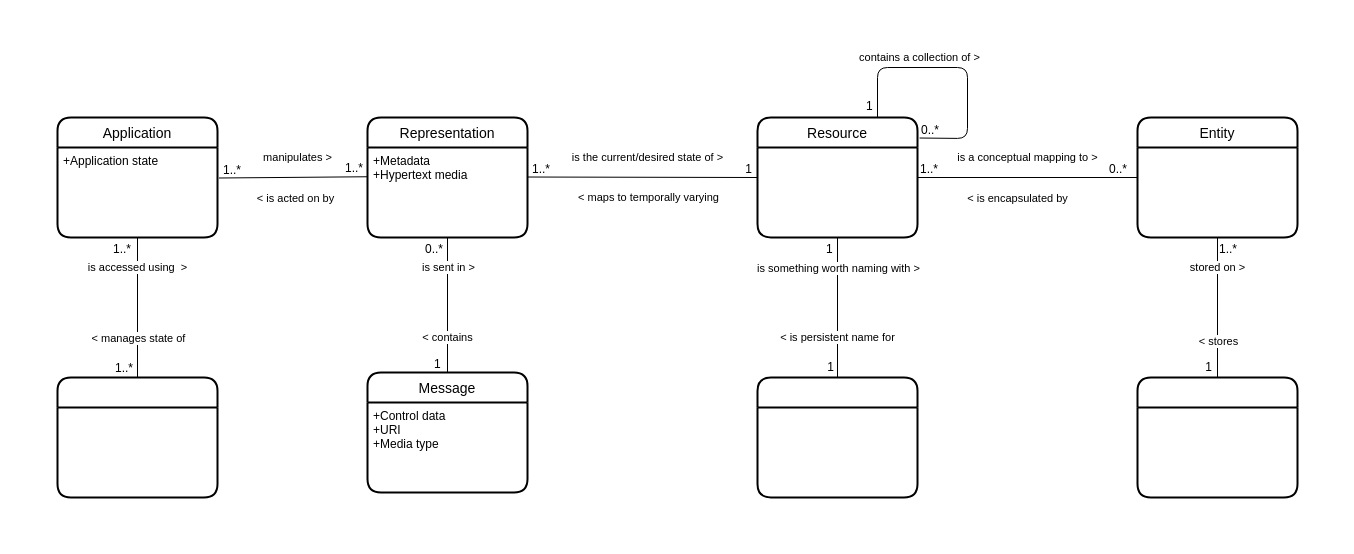
Some shapes in this 1354 by 554 pixel diagram are drawn without their labels. Each missing label, with the centre of its shape:
"Origin server" goes at point (1217, 437).
"URI" goes at point (837, 437).
"User agent" goes at point (137, 437).
